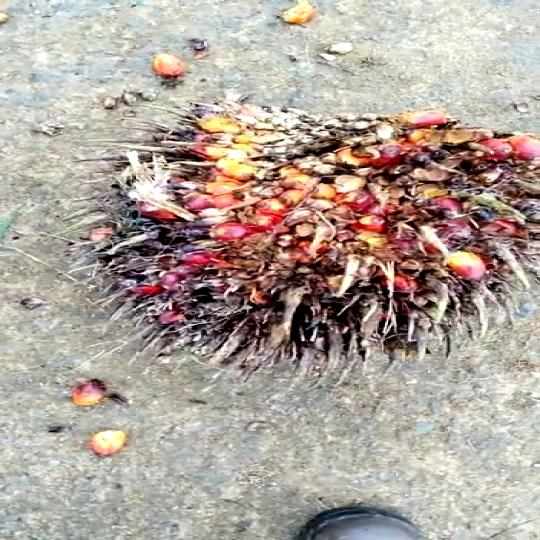terlalu masak: (84, 97, 540, 375)
